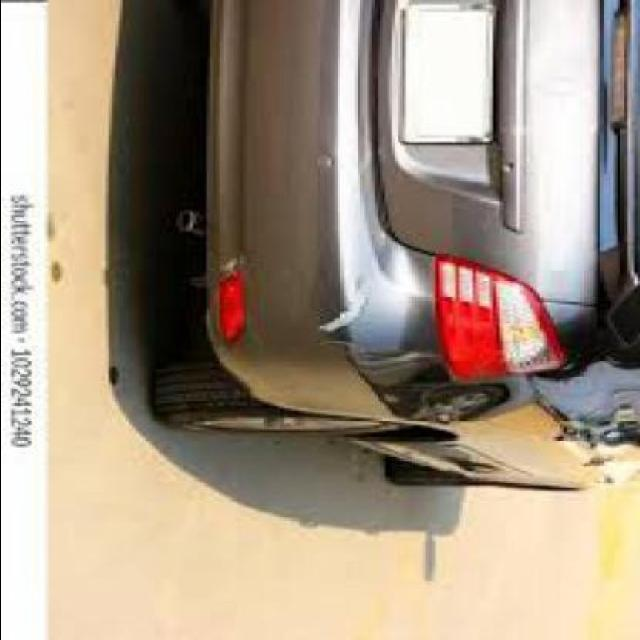rear-bumper-dent: (189, 187, 462, 436)
